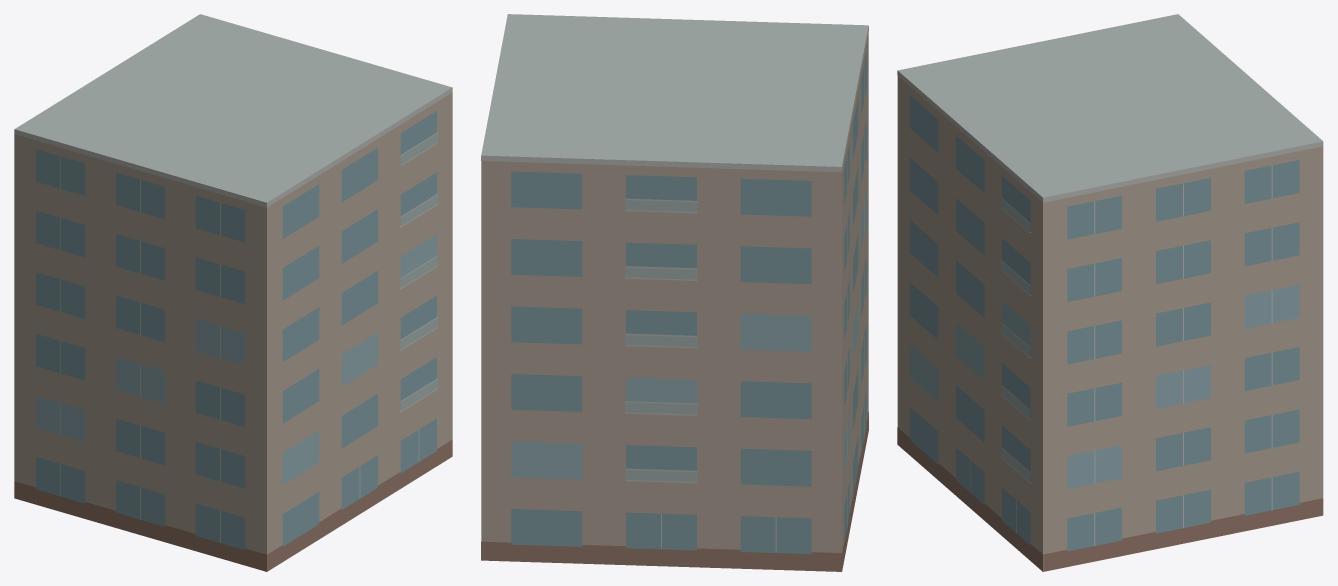
The model's file is survey-upis-32904152.glb.
3 views of the same model, side by side, from view 1: azimuth 30°, elevation 25°; view 2: azimuth 150°, elevation 25°; view 3: azimuth 270°, elevation 25° (orthographic). The views are drawn at different scales.
Parts seen in each view (by area): view 1: survey-upis-32904152.tmp; view 2: survey-upis-32904152.tmp; view 3: survey-upis-32904152.tmp.
Part boxes in pixels (x1,y1,x2,y2): survey-upis-32904152.tmp: (14,14,452,571); survey-upis-32904152.tmp: (481,14,868,571); survey-upis-32904152.tmp: (897,14,1323,571).
Size of the model in its own units: 19.28 by 18.3 by 18.89.
